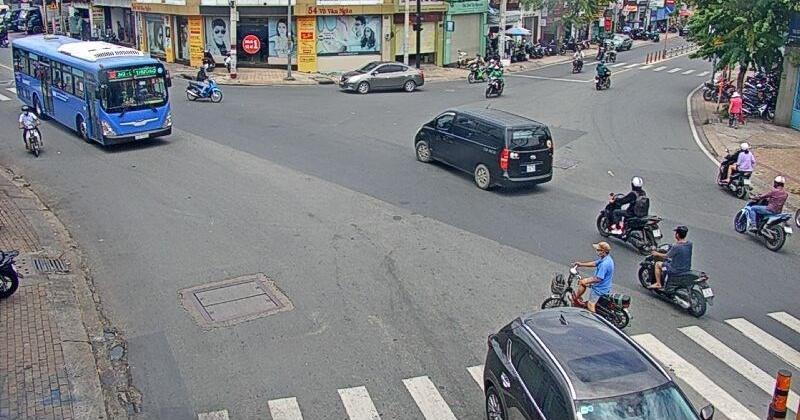xe buyt: (3, 34, 172, 154)
xe dap: (534, 238, 633, 328)
xe hoi: (484, 303, 715, 420), (410, 104, 557, 191), (338, 57, 426, 94)
xe may: (635, 226, 712, 316), (594, 176, 662, 250), (733, 176, 793, 252), (185, 65, 222, 100), (484, 60, 505, 93)
